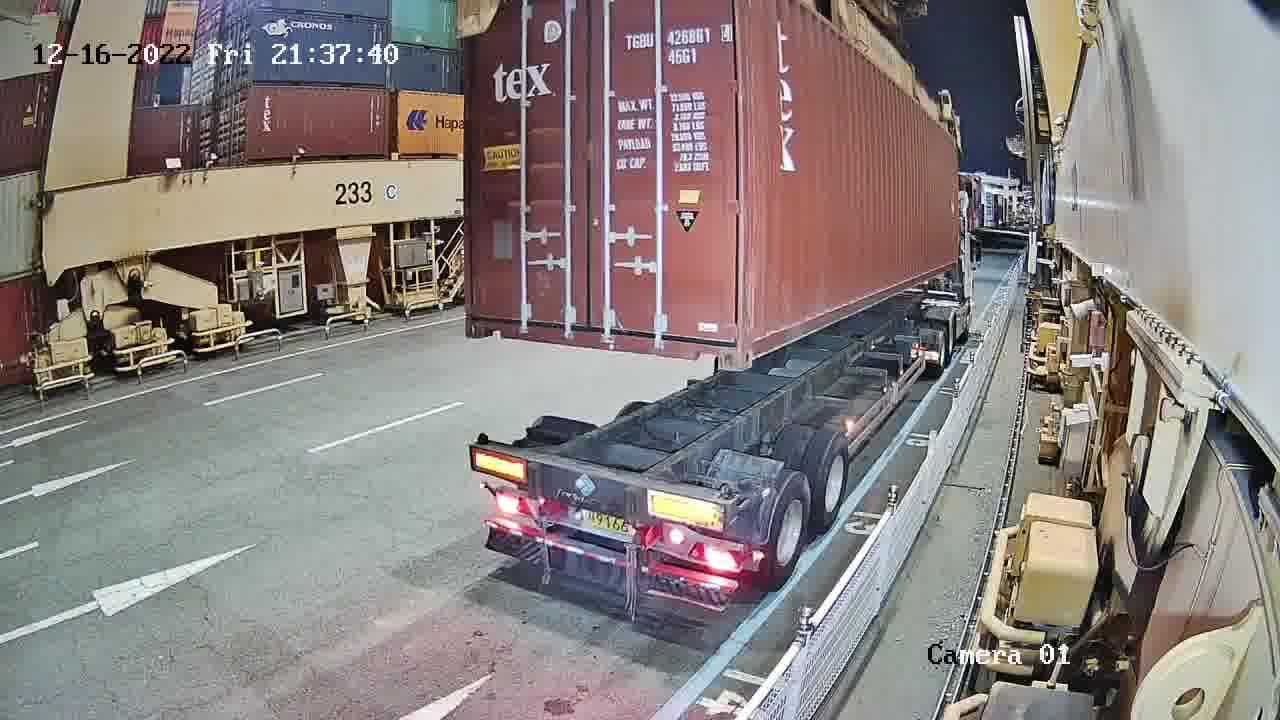Chassis: (467, 444, 731, 539)
Container: (463, 301, 744, 373)
Hole_L: (465, 301, 496, 340), (742, 323, 764, 371)
Hole_R: (712, 328, 742, 370)
Tire: (769, 468, 815, 588), (814, 430, 854, 535)
